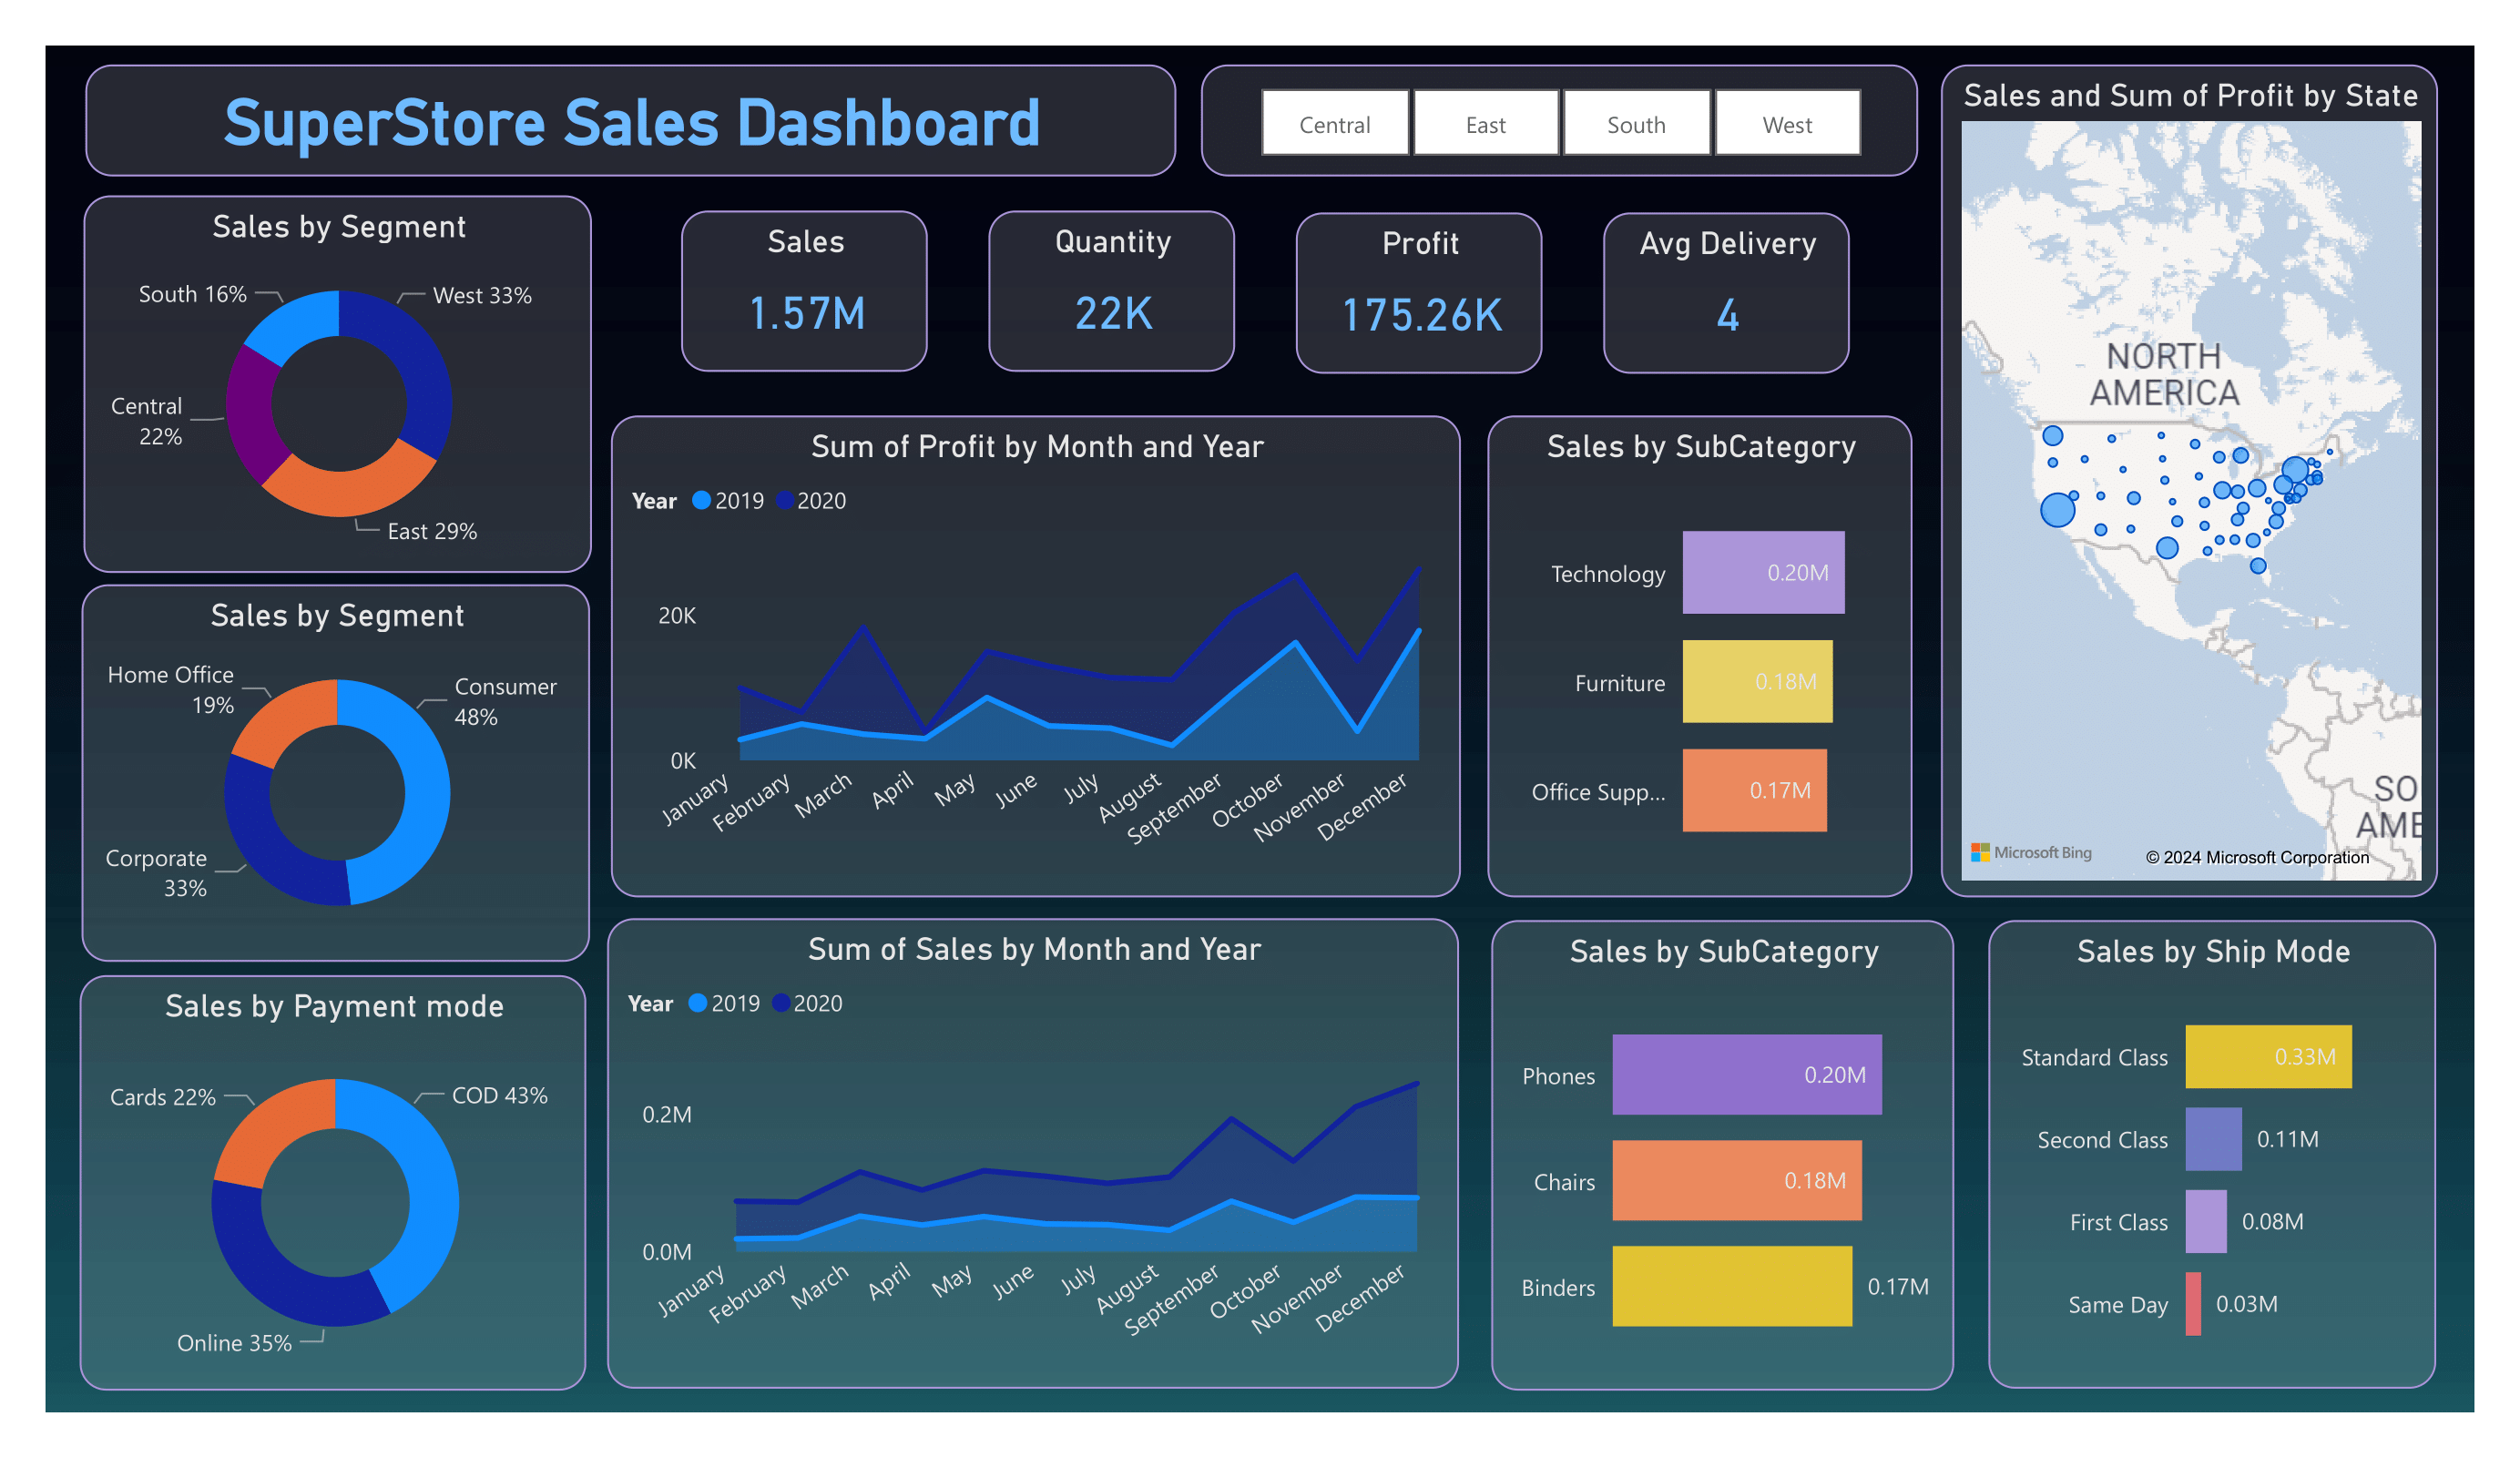

This screenshot's page, from the dashboard's own definition file:
{"tool":"powerbi","page":{"name":"Page 1","canvas":[1280,720],"ordinal":0},"visuals":[{"type":"clusteredBarChart","title":"Sales by SubCategory","fields":{"Category":["SuperStore_Sales_Dataset (2).Sub-Category"],"Y":["Sum(SuperStore_Sales_Dataset (2).Sales)"]},"box":[761.6,461.1,244.3,248.4],"z":0},{"type":"clusteredBarChart","title":"Sales by Ship Mode","fields":{"Category":["SuperStore_Sales_Dataset (2).Ship Mode"],"Y":["Sum(SuperStore_Sales_Dataset (2).Sales)"]},"box":[1023.7,461.1,236,247],"z":1000},{"type":"stackedAreaChart","fields":{"Y":["Sum(SuperStore_Sales_Dataset (2).Sales)"],"Category":["SuperStore_Sales_Dataset (2).Order Date.Variation.Date Hierarchy.Month","SuperStore_Sales_Dataset (2).Order Date.Variation.Date Hierarchy.Day"],"Series":["SuperStore_Sales_Dataset (2).Order Date.Variation.Date Hierarchy.Year"]},"box":[296.4,459.7,448.7,248.4],"z":2000},{"type":"stackedAreaChart","fields":{"Category":["SuperStore_Sales_Dataset (2).Order Date.Variation.Date Hierarchy.Month","SuperStore_Sales_Dataset (2).Order Date.Variation.Date Hierarchy.Day"],"Series":["SuperStore_Sales_Dataset (2).Order Date.Variation.Date Hierarchy.Year"],"Y":["Sum(SuperStore_Sales_Dataset (2).Profit)"]},"box":[297.8,194.9,448.7,253.9],"z":3000},{"type":"map","title":"Sales and Sum of Profit by State","fields":{"Category":["SuperStore_Sales_Dataset (2).State"],"Size":["Sum(SuperStore_Sales_Dataset (2).Sales)"]},"box":[999,9.6,262.1,439.1],"z":4000},{"type":"clusteredBarChart","title":"Sales by SubCategory","fields":{"Y":["Sum(SuperStore_Sales_Dataset (2).Sales)"],"Category":["SuperStore_Sales_Dataset (2).Category"]},"box":[760.2,194.9,223.7,253.9],"z":5000},{"type":"donutChart","title":"Sales by Segment","fields":{"Category":["SuperStore_Sales_Dataset (2).Segment"],"Y":["Sum(SuperStore_Sales_Dataset (2).Sales)"]},"box":[19.2,284,267.6,199],"z":6000},{"type":"donutChart","title":"Sales by Payment mode","fields":{"Category":["SuperStore_Sales_Dataset (2).Payment Mode"],"Y":["Sum(SuperStore_Sales_Dataset (2).Sales)"]},"box":[17.8,490.2,267.6,219.3],"z":7000},{"type":"slicer","fields":{"Values":["SuperStore_Sales_Dataset (2).Region"]},"box":[609.3,9.6,377.4,59],"z":8000},{"type":"textbox","box":[20.6,9.6,575,59],"z":9000},{"type":"card","title":"Sales","fields":{"Values":["Sum(SuperStore_Sales_Dataset (2).Sales)"]},"box":[335,86.6,130,85],"z":10000},{"type":"card","title":"Quantity","fields":{"Values":["Sum(SuperStore_Sales_Dataset (2).Quantity)"]},"box":[496.9,86.6,130.4,85.1],"z":11000},{"type":"card","title":"Profit","fields":{"Values":["Sum(SuperStore_Sales_Dataset (2).Profit)"]},"box":[658.8,88,130.4,85.1],"z":12000},{"type":"card","title":"Avg Delivery","fields":{"Values":["Avg(SuperStore_Sales_Dataset (2).Avgdelivery)"]},"box":[820.7,88.3,130.4,85.1],"z":13000},{"type":"donutChart","title":"Sales by Segment","fields":{"Category":["SuperStore_Sales_Dataset (2).Region"],"Y":["Sum(SuperStore_Sales_Dataset (2).Sales)"]},"box":[20,79,267.6,199],"z":14000}]}

Visuals, with their boxes in screenshot pixels (x1, y1, x2, y2):
"Sales by SubCategory" clusteredBarChart: detection(1492, 922, 1966, 1403)
"Sales by Ship Mode" clusteredBarChart: detection(2001, 922, 2459, 1401)
stackedAreaChart - Sum(SuperStore_Sales_Dataset (2).Sales) x SuperStore_Sales_Dataset (2).Order Date.Variation.Date Hierarchy.Month: detection(588, 919, 1460, 1401)
stackedAreaChart - SuperStore_Sales_Dataset (2).Order Date.Variation.Date Hierarchy.Month x SuperStore_Sales_Dataset (2).Order Date.Variation.Date Hierarchy.Day: detection(591, 404, 1463, 898)
"Sales and Sum of Profit by State" map: detection(1953, 45, 2462, 897)
"Sales by SubCategory" clusteredBarChart: detection(1489, 404, 1923, 898)
"Sales by Segment" donutChart: detection(50, 577, 570, 963)
"Sales by Payment mode" donutChart: detection(47, 978, 567, 1403)
slicer - SuperStore_Sales_Dataset (2).Region: detection(1196, 45, 1929, 159)
textbox: detection(53, 45, 1169, 159)
"Sales" card: detection(664, 194, 916, 360)
"Quantity" card: detection(978, 194, 1231, 360)
"Profit" card: detection(1292, 197, 1546, 362)
"Avg Delivery" card: detection(1607, 198, 1860, 362)
"Sales by Segment" donutChart: detection(52, 179, 572, 565)
